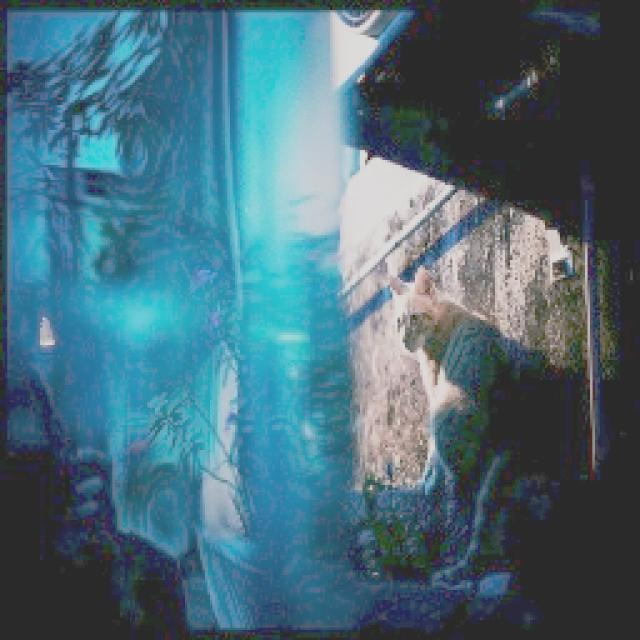cat: (346, 256, 587, 599)
